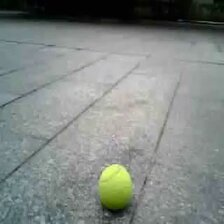tennis: (98, 163, 133, 207)
